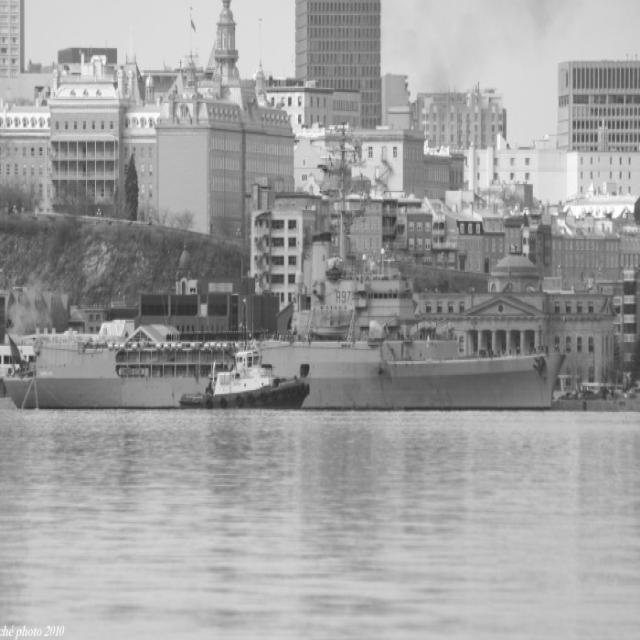Portanaves: (1, 114, 589, 416)
